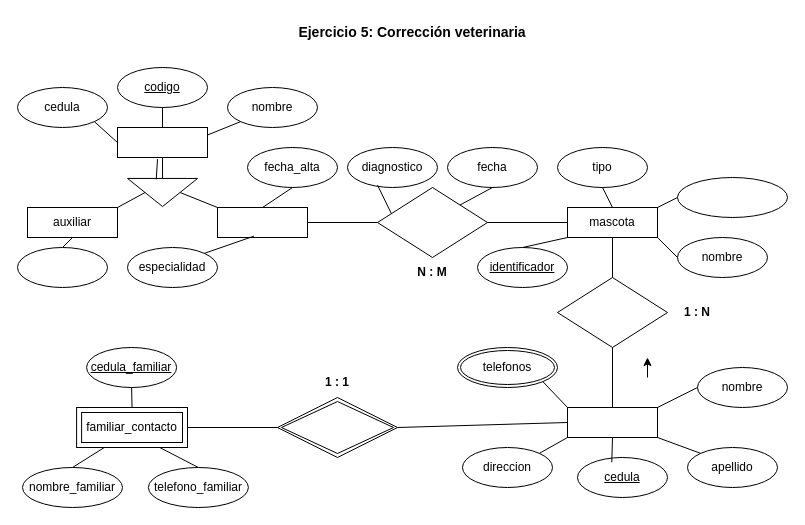
The diagram is 805 pixels wide and 525 high, and some of its shapes have lost their labels. Here are the shapes that lost their labels. From the top down, the box of each, then its label:
(116, 126, 208, 158): personal
(676, 176, 788, 218): fecha_nacimiento
(216, 206, 308, 238): veterinario
(376, 186, 488, 258): pasa_consulta
(16, 246, 108, 288): base_cotizacion
(556, 276, 668, 348): lleva
(276, 396, 398, 458): tiene
(566, 406, 658, 438): propietario
